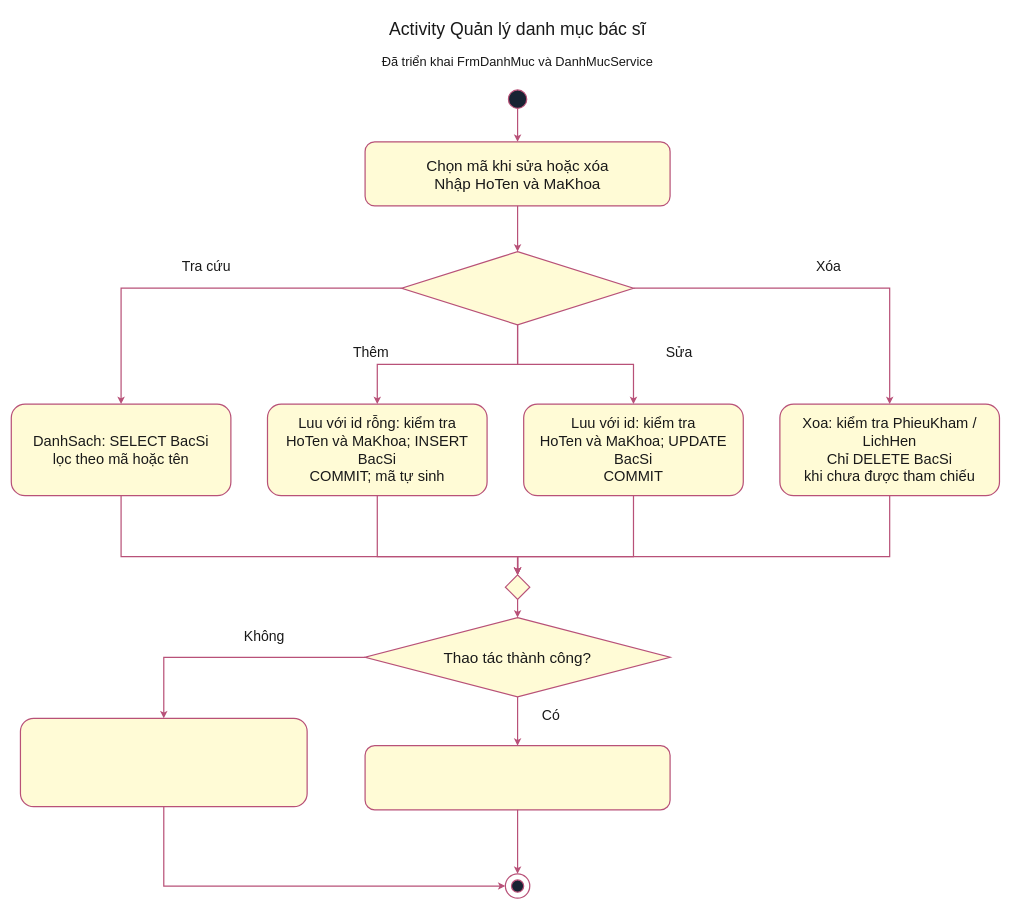
Image size: 1028x909. Some labels were removed from this diagram. Here are the shapes that lost their labels. From the top down, the centre of each, then its label:
At (517,288): "Thao tác nào?".
At (163,762): "Dữ liệu sai hoặc đang tham chiếu ROLLBACK khi ghi và báo lỗi".
At (517,777): "Tải lại danh sách BacSi".
